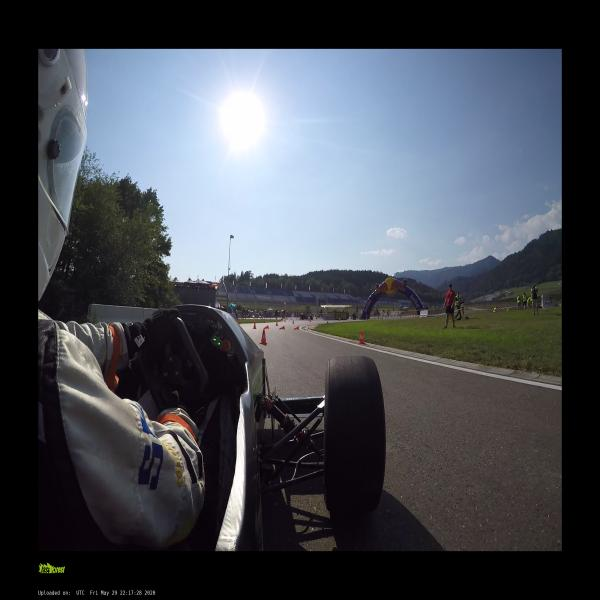orange_cone: (260, 329, 268, 344), (358, 331, 364, 344), (264, 325, 270, 330), (279, 325, 285, 330), (252, 322, 256, 329), (294, 325, 299, 330), (276, 321, 278, 326), (293, 320, 294, 324)
